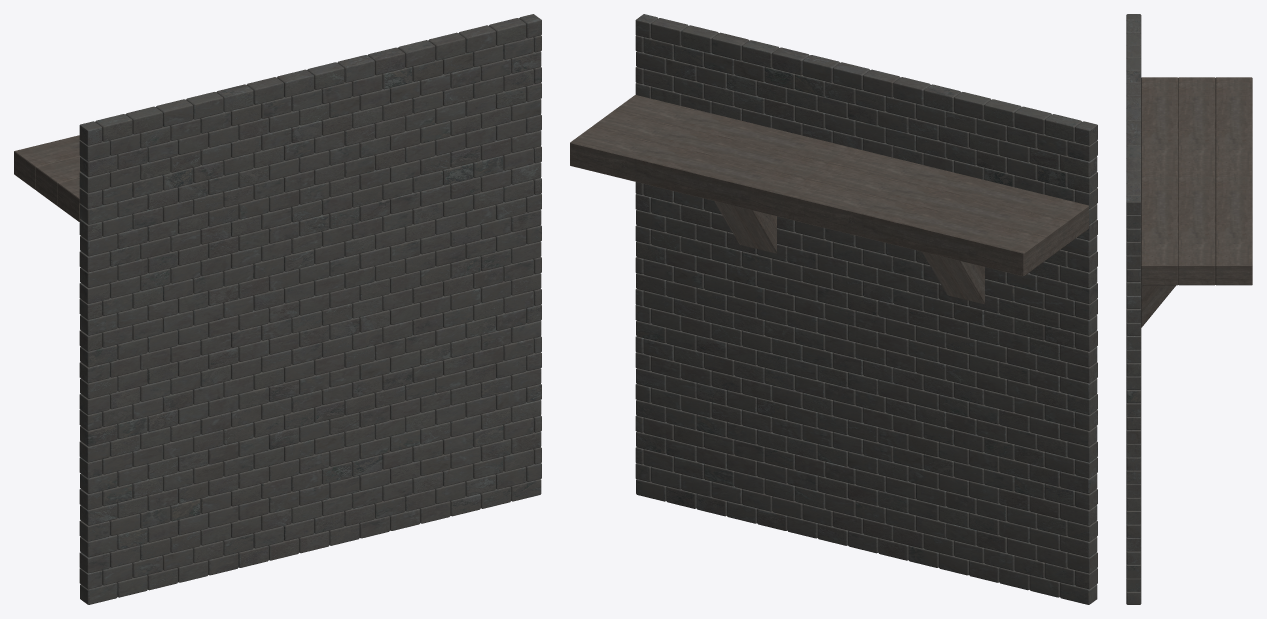
File: Burgmauer_Wand.fbx
3 views of the same model, side by side, from view 1: azimuth 30°, elevation 25°; view 2: azimuth 150°, elevation 25°; view 3: azimuth 270°, elevation 25° (orthographic). The views are drawn at different scales.
Visible parts, largest first — view 1: Burgmauer, Steg; view 2: Burgmauer, Steg; view 3: Steg, Burgmauer.
Part boxes in pixels (left/top/right/bottom): Burgmauer: left=79, top=14, right=541, bottom=604; Steg: left=14, top=135, right=80, bottom=221; Burgmauer: left=635, top=14, right=1097, bottom=604; Steg: left=570, top=95, right=1088, bottom=304; Steg: left=1141, top=77, right=1252, bottom=327; Burgmauer: left=1126, top=14, right=1141, bottom=604.
Bounding box in the file's own units: 300 × 300 × 85.
